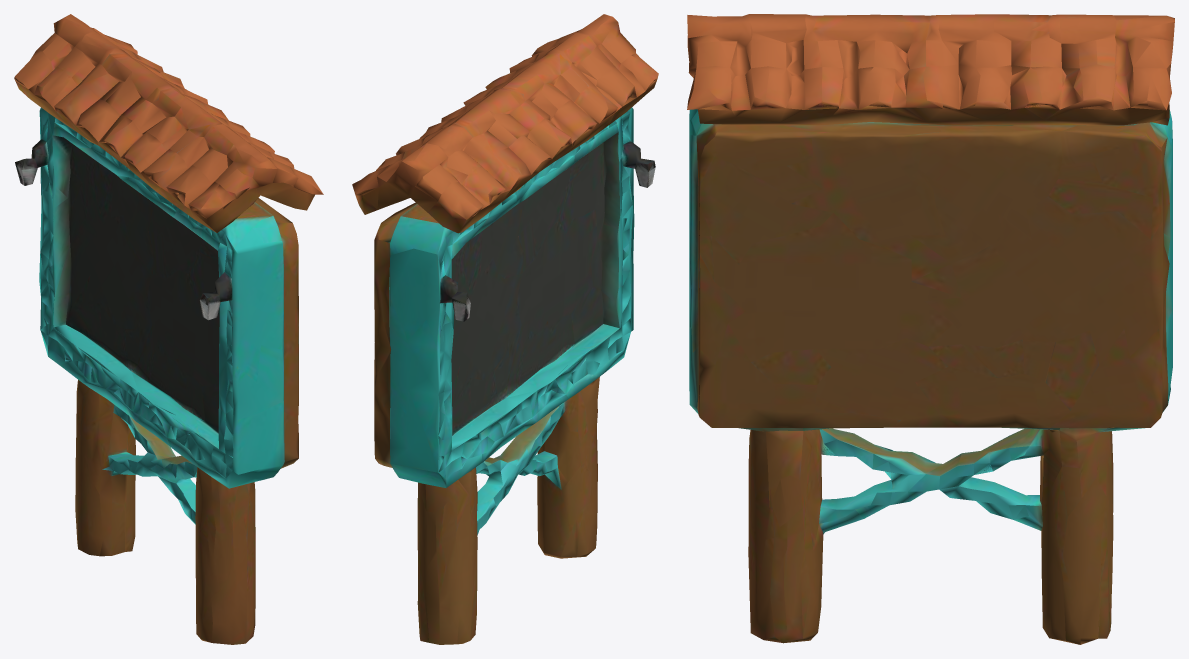
File: pueblo_marcador.glb
3 views of the same model, side by side, from view 1: azimuth 30°, elevation 25°; view 2: azimuth 150°, elevation 25°; view 3: azimuth 270°, elevation 25° (orthographic). The views are drawn at different scales.
Parts seen in each view (by area): view 1: tripo_node_e15f803c-a37a-491b-9ad8-e9b5891d844b; view 2: tripo_node_e15f803c-a37a-491b-9ad8-e9b5891d844b; view 3: tripo_node_e15f803c-a37a-491b-9ad8-e9b5891d844b.
Part boxes in pixels (<box>): tripo_node_e15f803c-a37a-491b-9ad8-e9b5891d844b: <box>14,14,323,644</box>; tripo_node_e15f803c-a37a-491b-9ad8-e9b5891d844b: <box>352,14,658,644</box>; tripo_node_e15f803c-a37a-491b-9ad8-e9b5891d844b: <box>687,14,1174,644</box>.
Bounding box in the file's own units: 0.2501 × 0.997 × 0.715.
1 material, 1 textured.
